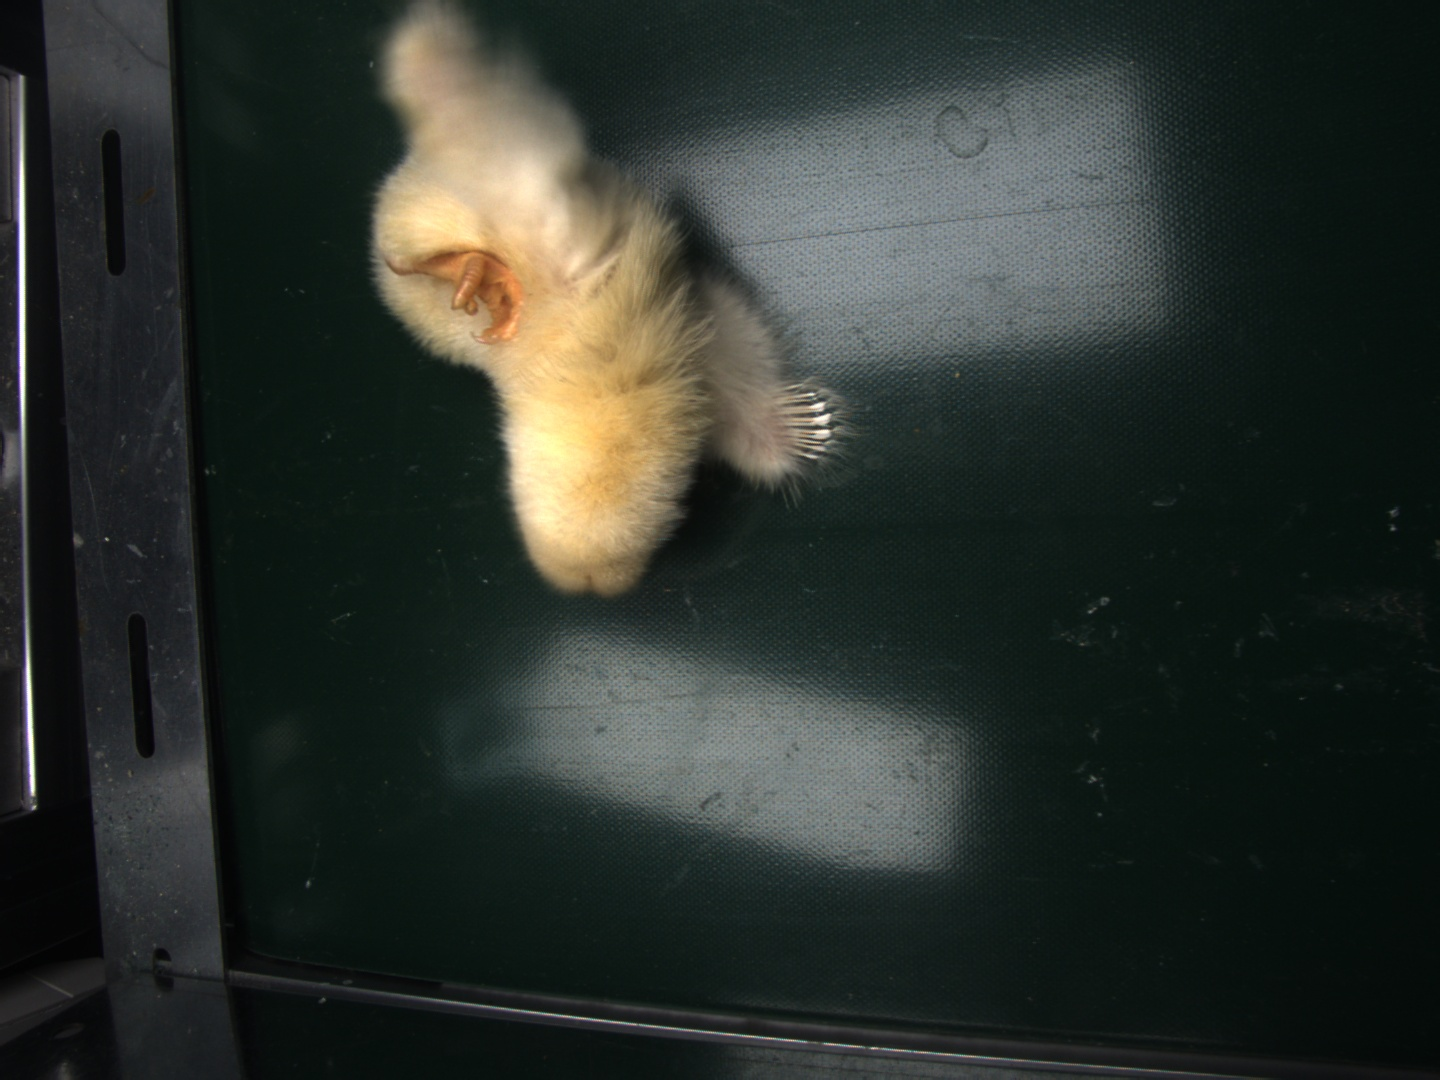male: (774, 382, 833, 465)
